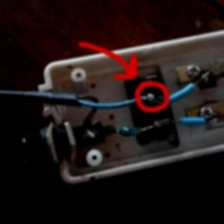three_eye_plug: (15, 22, 224, 196)
